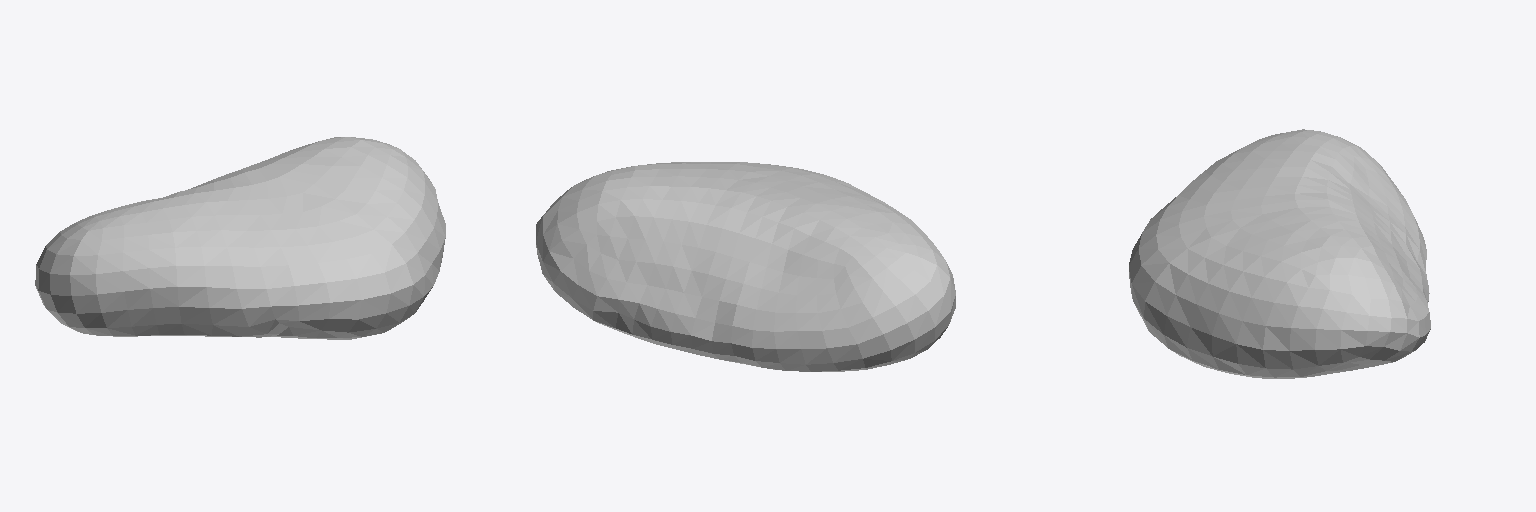
Rendered from stone2.obj.
3 renders of one model, left to right at view 1: azimuth 30°, elevation 25°; view 2: azimuth 150°, elevation 25°; view 3: azimuth 270°, elevation 25°, orthographic.
Parts seen in each view (by area): view 1: 10123_stone_lp; view 2: 10123_stone_lp; view 3: 10123_stone_lp.
Part boxes in pixels (x1,y1,x2,y2): 10123_stone_lp: (35,137,445,339); 10123_stone_lp: (536,162,955,371); 10123_stone_lp: (1129,129,1430,378).
Size of the model in its own units: 22.06 by 7.13 by 14.9.